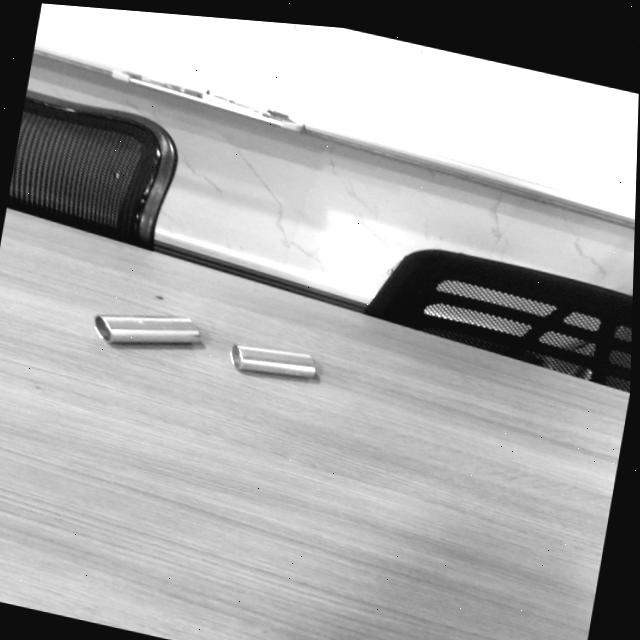Co_Lon: (95, 316, 200, 344)
Co_Nho: (229, 345, 318, 381)
